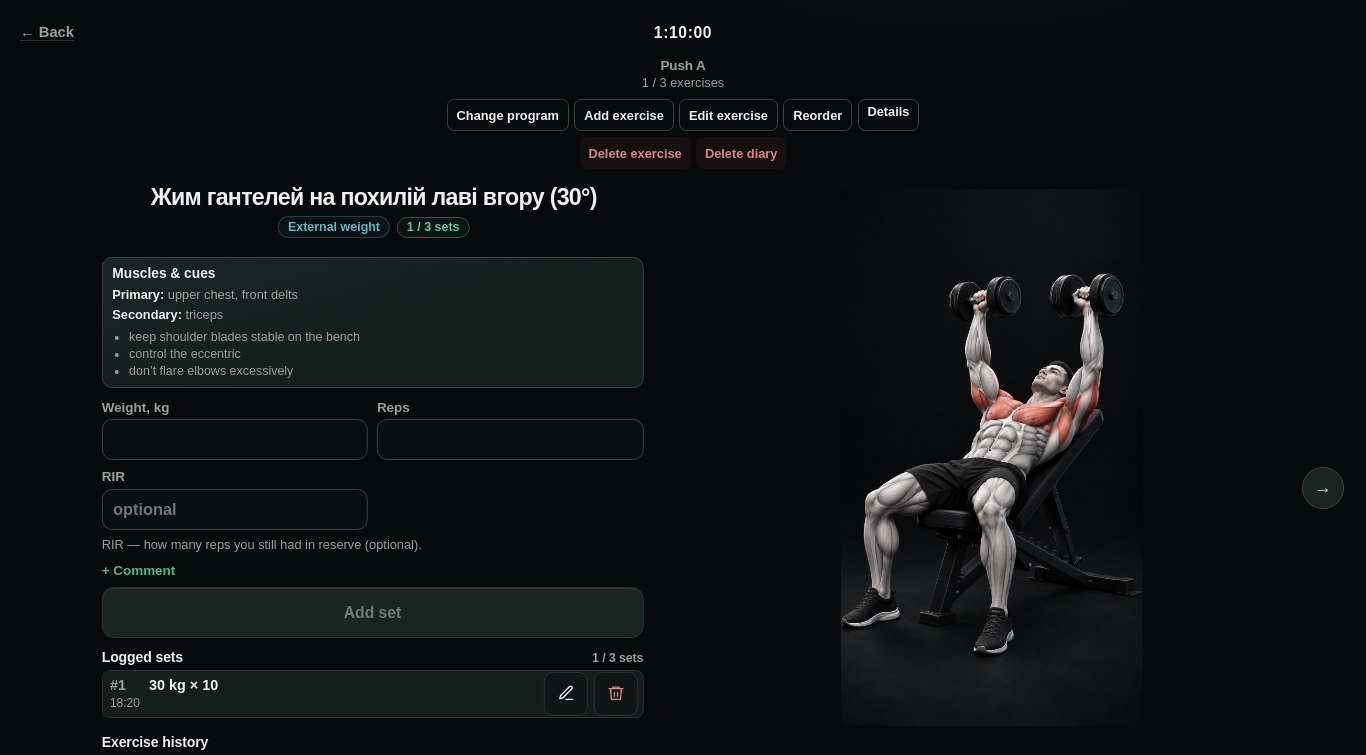
Test: Session edit exercise pager › keeps the edit form and draft when the authoritative session confirms no commit
This screenshot has width=1366, height=755.
Click the button named "Edit set 1".
click(566, 694)  # box [544,672,588,716]
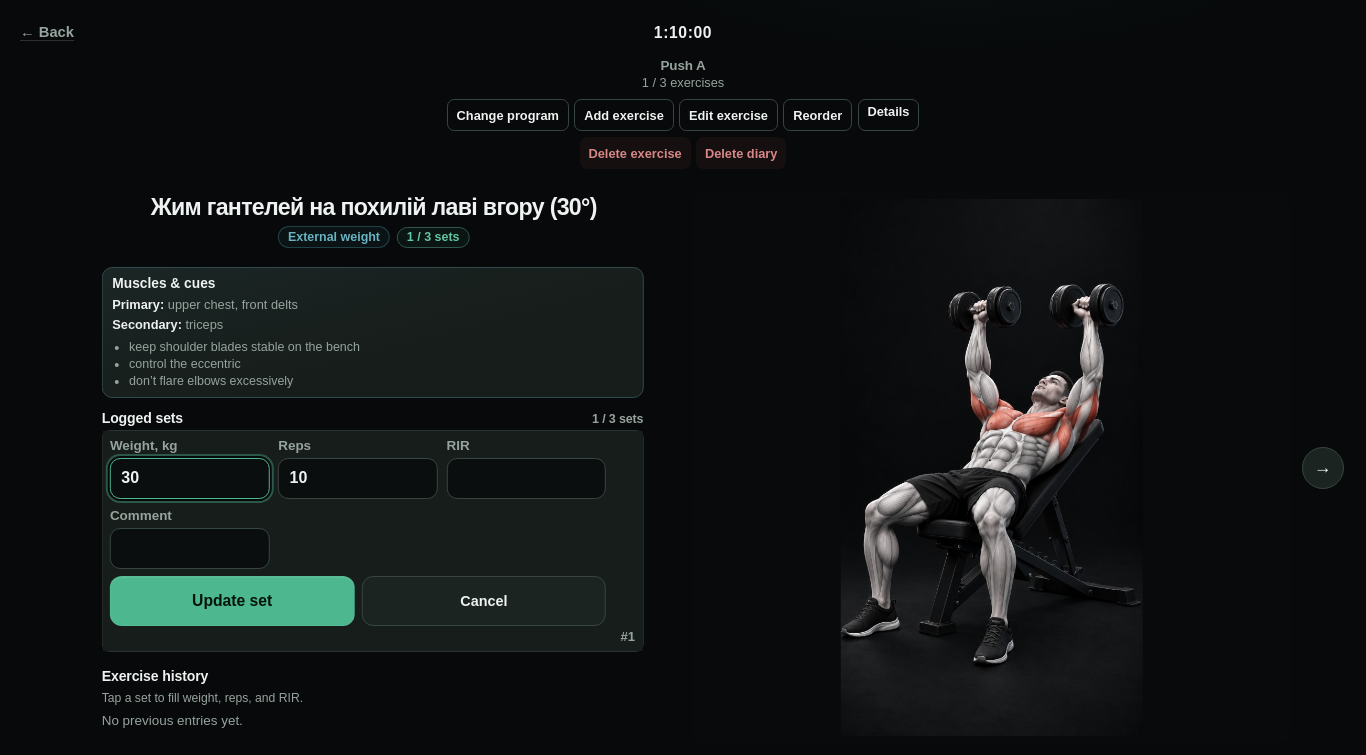
Replace the text in the field labelled "Reps" with "11" at (358,479), box [279,458,438,500]
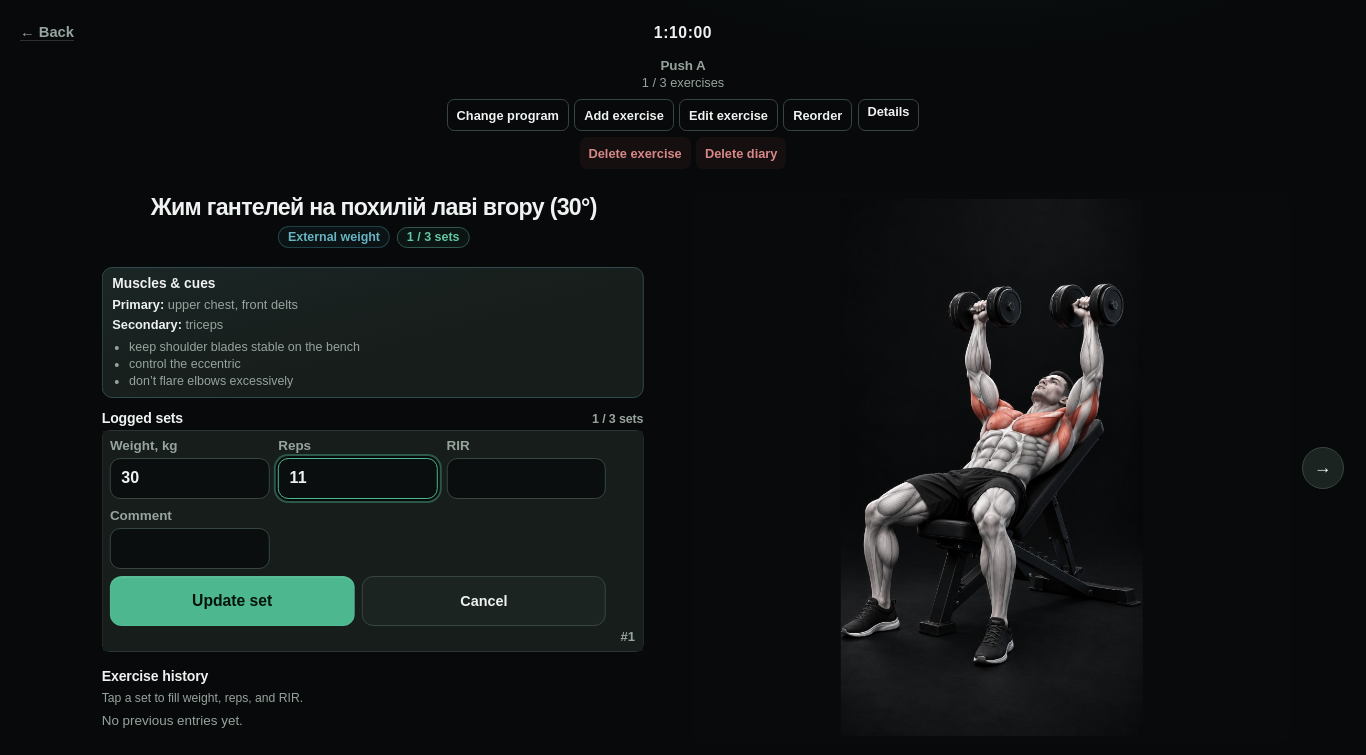
Click the button "Update set".
click(233, 601)  # box [110,576,355,626]
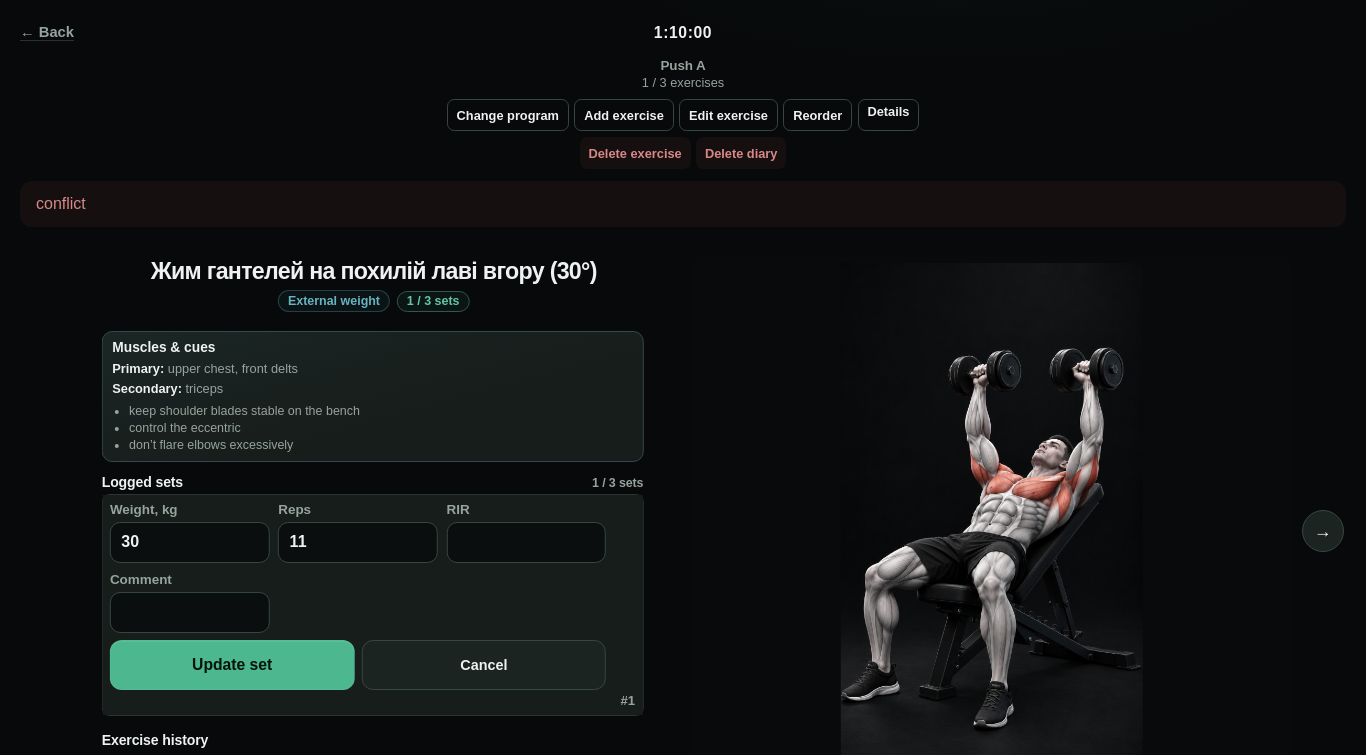
Expected: the message "conflict" is shown, [20,182,1346,227]
